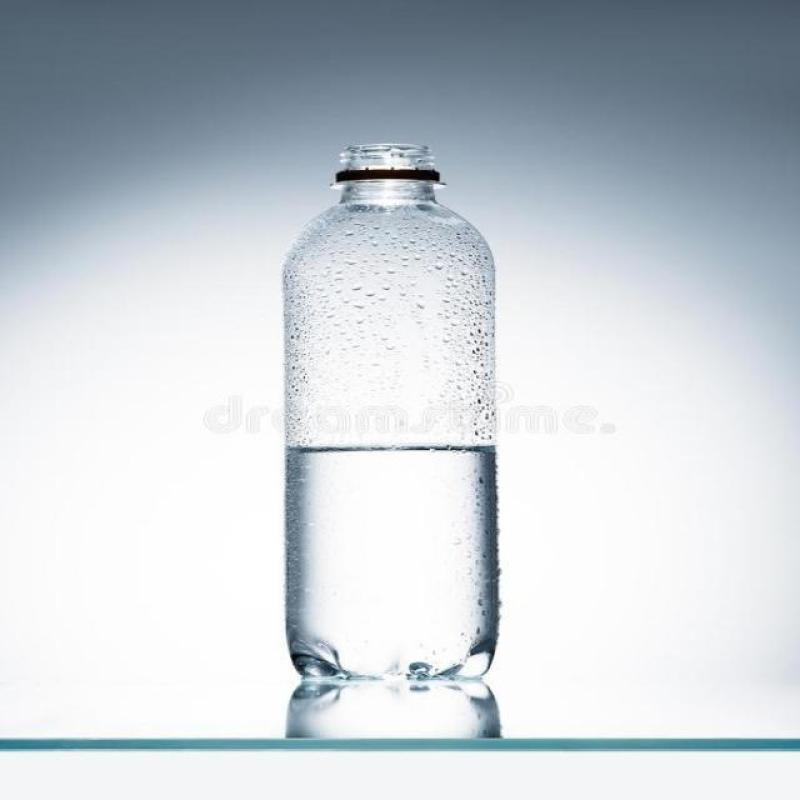botella: (282, 141, 501, 683)
